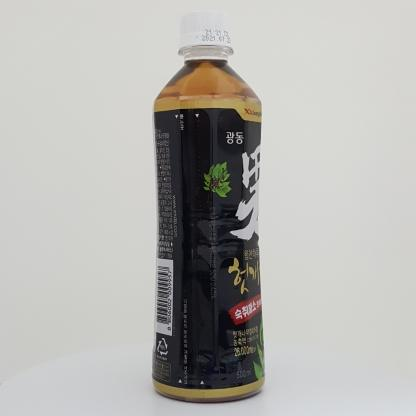---------500ML: (152, 9, 265, 403)
